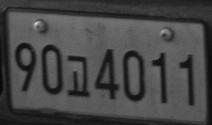0: (121, 49, 146, 101), (40, 43, 63, 95)
1: (176, 53, 202, 105), (149, 51, 174, 103)
4: (93, 48, 119, 99)
9: (13, 41, 37, 91)
고: (65, 54, 90, 97)
